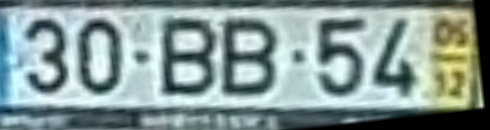0: (75, 16, 128, 100)
3: (21, 16, 73, 100)
4: (371, 15, 425, 101)
5: (313, 15, 370, 101)
B: (157, 14, 222, 99), (222, 16, 282, 100)
